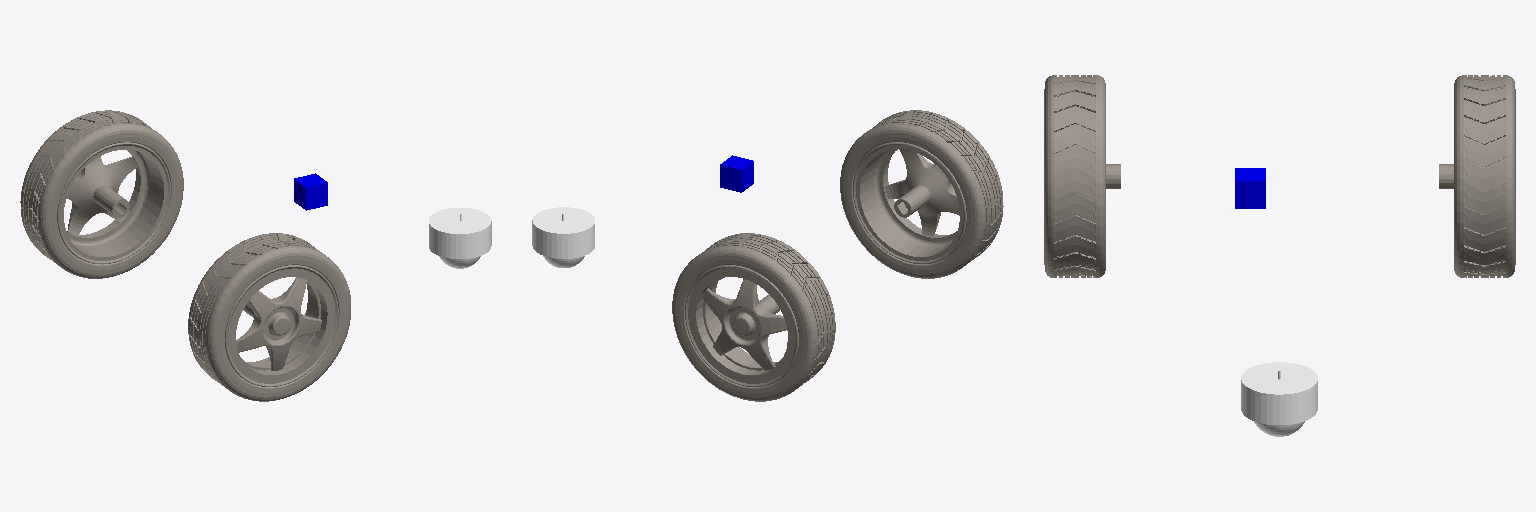
robot.urdf — robot:
<?xml version="1.0" encoding="utf-8"?>
<!-- This URDF was automatically created by SolidWorks to URDF Exporter -->
<robot name="robot">

  <!-- ==================== BASE FOOTPRINT ==================== -->
  <link name="base_footprint"/>

  <joint name="base_footprint_joint" type="fixed">
    <origin xyz="0 0 0" rpy="0 0 -1.5707963267949" />
    <parent link="base_footprint" />
    <child link="base" />
  </joint>

  <!-- ==================== BASE LINK ==================== -->
  <link name="base">
    <inertial>
      <origin xyz="-0.00965481457320272 0.0111120747049655 0.005" rpy="0 0 0" />
      <mass value="0.197321172139232" />
      <inertia
        ixx="0.000254464488119407"
        ixy="5.7773136475039E-08"
        ixz="-2.4030438420844E-07"
        iyy="0.000348452218851022"
        iyz="-4.09032412681973E-05"
        izz="0.000146305796028143" />
    </inertial>
    <visual>
      <origin xyz="0 0 0" rpy="0 0 0" />
      <geometry>
        <mesh filename="package://robot/meshes/base.STL" />
      </geometry>
      <material name="">
        <color rgba="0.792156862745098 0.819607843137255 0.933333333333333 1" />
      </material>
    </visual>
    <collision>
      <origin xyz="0 0 0" rpy="0 0 0" />
      <geometry>
        <mesh filename="package://robot/meshes/base.STL" />
      </geometry>
    </collision>
  </link>

  <!-- ==================== LEFT WHEEL ==================== -->
  <link name="Left Wheel">
    <inertial>
      <origin xyz="0.015634 3.4368E-10 -7.9793E-11" rpy="0 0 0" />
      <mass value="0.30171" />
      <inertia
        ixx="0.00021617"
        ixy="-1.8513E-13"
        ixz="8.6051E-15"
        iyy="0.00011754"
        iyz="-8.418E-14"
        izz="0.00011754" />
    </inertial>
    <visual>
      <origin xyz="0 0 0" rpy="0 0 0" />
      <geometry>
        <mesh filename="package://robot/meshes/left_wheel.STL" />
      </geometry>
      <material name="">
        <color rgba="0.65098 0.61961 0.58824 1" />
      </material>
    </visual>
    <collision>
      <origin xyz="0 0 0" rpy="0 0 0" />
      <geometry>
        <mesh filename="package://robot/meshes/left_wheel.STL" />
      </geometry>
    </collision>
  </link>

  <joint name="left_wheel" type="continuous">
    <origin xyz="-0.061096 -0.051666 0.00018021" rpy="-2.2886 0 3.1416" />
    <parent link="base" />
    <child link="Left Wheel" />
    <axis xyz="1 0 0" />
  </joint>

  <!-- ==================== RIGHT WHEEL ==================== -->
  <link name="Right Wheel">
    <inertial>
      <origin xyz="0.015634 1.0186E-10 -2.1241E-11" rpy="0 0 0" />
      <mass value="0.30171" />
      <inertia
        ixx="0.00021617"
        ixy="6.8231E-14"
        ixz="-9.3068E-15"
        iyy="0.00011754"
        iyz="-3.8625E-13"
        izz="0.00011754" />
    </inertial>
    <visual>
      <origin xyz="0 0 0" rpy="0 0 0" />
      <geometry>
        <mesh filename="package://robot/meshes/right_wheel.STL" />
      </geometry>
      <material name="">
        <color rgba="0.65098 0.61961 0.58824 1" />
      </material>
    </visual>
    <collision>
      <origin xyz="0 0 0" rpy="0 0 0" />
      <geometry>
        <mesh filename="package://robot/meshes/right_wheel.STL" />
      </geometry>
    </collision>
  </link>

  <joint name="right_wheel" type="continuous">
    <origin xyz="0.041879 -0.051666 0.00018021" rpy="0.95996 0 0" />
    <parent link="base" />
    <child link="Right Wheel" />
    <axis xyz="-1 0 0" />
  </joint>

  <!-- ==================== FREE WHEEL ==================== -->
  <link name="Free Wheel">
    <inertial>
      <origin xyz="0 0 0" rpy="0 0 0" />
      <mass value="0.1" />
      <inertia
        ixx="0.0001"
        ixy="0"
        ixz="0"
        iyy="0.0001"
        iyz="0"
        izz="0.0001" />
    </inertial>
    <visual>
      <origin xyz="0 0 0" rpy="0 0 0" />
      <geometry>
        <mesh filename="package://robot/meshes/free_wheel.STL" />
      </geometry>
      <material name="">
        <color rgba="1 1 1 1" />
      </material>
    </visual>
    <collision>
      <origin xyz="0 0 0" rpy="0 0 0" />
      <geometry>
        <mesh filename="package://robot/meshes/free_wheel.STL" />
      </geometry>
    </collision>
  </link>

  <joint name="free_wheel" type="continuous">
    <origin xyz="-0.00945839046097954 0.0740844223621159 -0.0106197918296602" rpy="1.5707963267949 0 0" />
    <parent link="base" />
    <child link="Free Wheel" />
    <axis xyz="0 1 0" />
  </joint>

  <!-- ==================== IMU LINK ==================== -->
  <link name="imu_link">
    <inertial>
      <origin xyz="0 0 0" rpy="0 0 0" />
      <mass value="0.001" />
      <inertia ixx="0.0001" ixy="0" ixz="0" iyy="0.0001" iyz="0" izz="0.0001" />
    </inertial>
    <visual>
      <origin xyz="0 0 0" rpy="0 0 0" />
      <geometry>
        <box size="0.01 0.01 0.01" />
      </geometry>
      <material name="blue">
        <color rgba="0 0 1 1" />
      </material>
    </visual>
  </link>

  <joint name="imu_joint" type="fixed">
    <origin xyz="0 0 0.02" rpy="0 0 0" />
    <parent link="base" />
    <child link="imu_link" />
  </joint>

  <!-- ==================== GAZEBO FRICTION & CONTACT ==================== -->

  <gazebo reference="Left Wheel">
    <mu1>1.0</mu1>
    <mu2>1.0</mu2>
    <kp>1000000.0</kp>
    <kd>100.0</kd>
  </gazebo>

  <gazebo reference="Right Wheel">
    <mu1>1.0</mu1>
    <mu2>1.0</mu2>
    <kp>1000000.0</kp>
    <kd>100.0</kd>
  </gazebo>

  <gazebo reference="Free Wheel">
    <mu1>0.5</mu1>
    <mu2>0.5</mu2>
    <kp>1000000.0</kp>
    <kd>100.0</kd>
  </gazebo>

  <!-- ==================== GAZEBO PLUGINS ==================== -->

  <!-- IMU Sensor Plugin -->
  <gazebo reference="imu_link">
    <sensor name="imu_sensor" type="imu">
      <always_on>true</always_on>
      <update_rate>100</update_rate>
      <topic>/imu</topic>
      <gz_frame_id>imu_link</gz_frame_id>
      <imu>
        <angular_velocity>
          <x><noise type="gaussian"><mean>0</mean><stddev>0.009</stddev></noise></x>
          <y><noise type="gaussian"><mean>0</mean><stddev>0.009</stddev></noise></y>
          <z><noise type="gaussian"><mean>0</mean><stddev>0.009</stddev></noise></z>
        </angular_velocity>
        <linear_acceleration>
          <x><noise type="gaussian"><mean>0</mean><stddev>0.021</stddev></noise></x>
          <y><noise type="gaussian"><mean>0</mean><stddev>0.021</stddev></noise></y>
          <z><noise type="gaussian"><mean>0</mean><stddev>0.021</stddev></noise></z>
        </linear_acceleration>
      </imu>
    </sensor>
  </gazebo>

  <!-- Differential Drive Plugin -->
  <gazebo>
    <plugin filename="gz-sim-diff-drive-system"
            name="gz::sim::systems::DiffDrive">
      <left_joint>left_wheel</left_joint>
      <right_joint>right_wheel</right_joint>
      <wheel_separation>0.102975</wheel_separation>
      <wheel_radius>0.03</wheel_radius>
      <odom_publish_frequency>50</odom_publish_frequency>
      <topic>/cmd_vel</topic>
      <odom_topic>/odom</odom_topic>
      <tf_topic>/tf</tf_topic>
      <frame_id>odom</frame_id>
      <child_frame_id>base_footprint</child_frame_id>
      <publish_odom_tf>true</publish_odom_tf>
    </plugin>
  </gazebo>

  <!-- Joint State Publisher Plugin -->
  <gazebo>
    <plugin filename="gz-sim-joint-state-publisher-system"
            name="gz::sim::systems::JointStatePublisher">
      <topic>/joint_states</topic>
    </plugin>
  </gazebo>

</robot>

--- What the picture shows (computed from the rendered views, not written in the file) ---
3 views of the same robot in one strip: view 1: azimuth 30°, elevation 25°; view 2: azimuth 150°, elevation 25°; view 3: azimuth 270°, elevation 25° (orthographic).
Model robot with 6 links and 5 joints (3 continuous, 2 fixed), rooted at base_footprint, posed every joint at zero.
Visible links, largest first — view 1: Right Wheel, Left Wheel, Free Wheel, imu_link; view 2: Left Wheel, Right Wheel, Free Wheel, imu_link; view 3: Right Wheel, Left Wheel, Free Wheel, imu_link.
Boxes of the visible links, x1=… form: Right Wheel: x1=188, y1=233, x2=350, y2=401; Left Wheel: x1=20, y1=110, x2=183, y2=278; Free Wheel: x1=429, y1=208, x2=491, y2=268; imu_link: x1=294, y1=173, x2=327, y2=210; Left Wheel: x1=672, y1=233, x2=835, y2=401; Right Wheel: x1=840, y1=110, x2=1003, y2=278; Free Wheel: x1=532, y1=207, x2=594, y2=267; imu_link: x1=720, y1=155, x2=753, y2=192; Right Wheel: x1=1044, y1=75, x2=1120, y2=277; Left Wheel: x1=1439, y1=75, x2=1515, y2=277; Free Wheel: x1=1241, y1=362, x2=1317, y2=436; imu_link: x1=1235, y1=168, x2=1265, y2=208.
Bounding box of the posed robot: 0.1709 × 0.153 × 0.0668 m (x, y, z).
Meshes: 4 distinct files referenced, 3 mesh visuals loaded (3 binary STL); not drawn: 1 (file found but could not be loaded).
